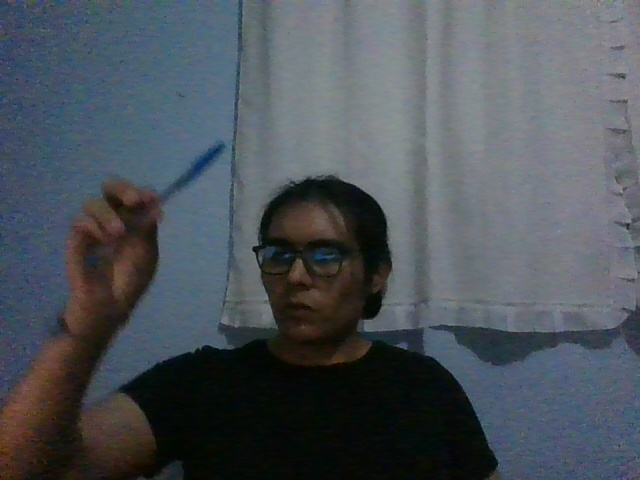pluma: (83, 141, 225, 268)
